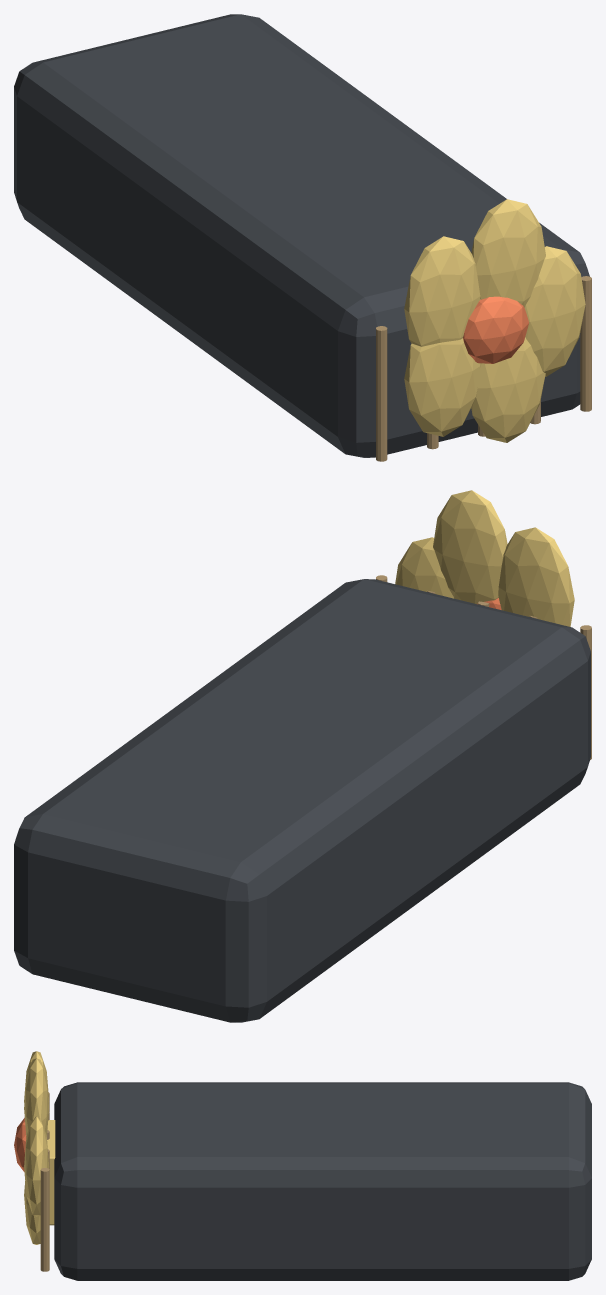
Rendered from writing_sumi.glb.
3 renders of one model, top to bottom at view 1: azimuth 30°, elevation 25°; view 2: azimuth 150°, elevation 25°; view 3: azimuth 270°, elevation 25°, orthographic. The views are drawn at different scales.
Visible parts, largest first — view 1: Hand-molded inkstick, Ink-carved dragon seal_petal02, Ink-carved dragon seal_petal01, Ink-carved dragon seal_petal03, Ink-carved dragon seal_petal00, Ink-carved dragon seal_petal04, Ink-carved dragon seal_center, Inkstick gilt border, Inkstick gilt border.004; view 2: Hand-molded inkstick, Ink-carved dragon seal_petal01, Ink-carved dragon seal_petal02, Ink-carved dragon seal_petal00; view 3: Hand-molded inkstick, Ink-carved dragon seal_petal00, Ink-carved dragon seal_petal01, Inkstick gilt border.004, Gold-colored engraved calligraphy, Ink-carved dragon seal_petal04, Ink-carved dragon seal_center.
Boxes of the visible parts, bbox=[...] form: Hand-molded inkstick: bbox=[14, 14, 589, 457]; Ink-carved dragon seal_petal02: bbox=[404, 236, 480, 346]; Ink-carved dragon seal_petal01: bbox=[471, 199, 545, 307]; Ink-carved dragon seal_petal03: bbox=[404, 338, 480, 436]; Ink-carved dragon seal_petal00: bbox=[524, 246, 585, 376]; Ink-carved dragon seal_petal04: bbox=[471, 337, 545, 442]; Ink-carved dragon seal_center: bbox=[463, 296, 528, 363]; Inkstick gilt border: bbox=[376, 326, 387, 461]; Inkstick gilt border.004: bbox=[580, 276, 591, 411]; Hand-molded inkstick: bbox=[14, 579, 590, 1022]; Ink-carved dragon seal_petal01: bbox=[433, 490, 507, 603]; Ink-carved dragon seal_petal02: bbox=[498, 527, 574, 626]; Ink-carved dragon seal_petal00: bbox=[395, 537, 453, 598]; Hand-molded inkstick: bbox=[54, 1082, 591, 1280]; Ink-carved dragon seal_petal00: bbox=[24, 1116, 48, 1216]; Ink-carved dragon seal_petal01: bbox=[24, 1058, 48, 1136]; Inkstick gilt border.004: bbox=[40, 1168, 49, 1271]; Gold-colored engraved calligraphy: bbox=[47, 1120, 55, 1225]; Ink-carved dragon seal_petal04: bbox=[24, 1181, 40, 1244]; Ink-carved dragon seal_center: bbox=[14, 1118, 26, 1172].
Size of the model in its own units: 0.7461 by 0.7124 by 1.95.
